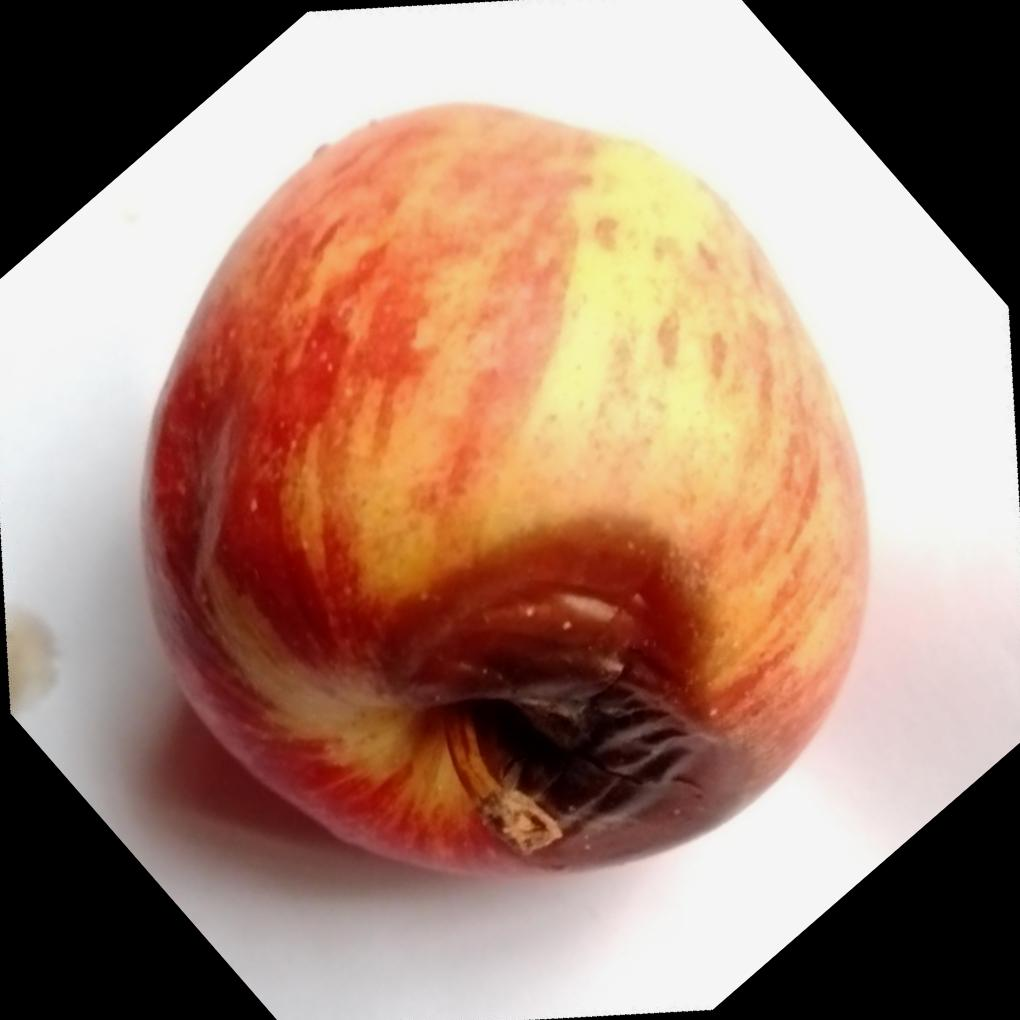FreshOrange: (139, 96, 876, 881)
